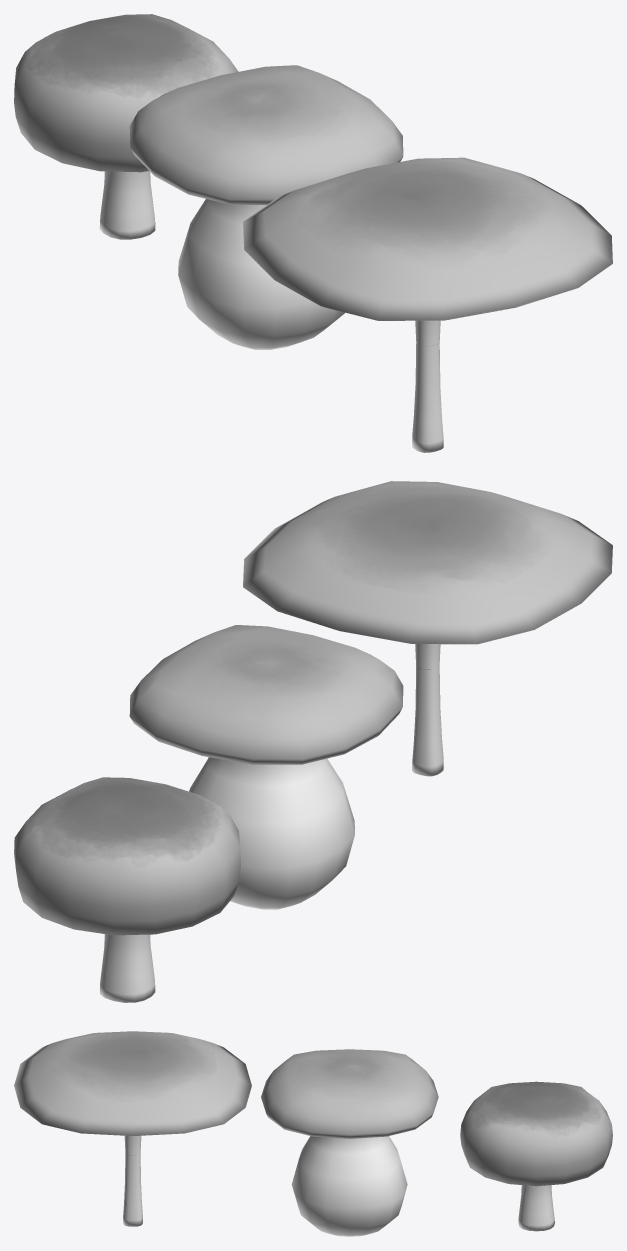
The model's file is 04-MushroonsSmall.fbx.
3 renders of one model, top to bottom at view 1: azimuth 30°, elevation 25°; view 2: azimuth 150°, elevation 25°; view 3: azimuth 270°, elevation 25°, orthographic. The views are drawn at different scales.
Parts seen in each view (by area): view 1: MushroonsSmallOne, MushroonsSmallTwo, MushroonsSmallThree; view 2: MushroonsSmallOne, MushroonsSmallTwo, MushroonsSmallThree; view 3: MushroonsSmallTwo, MushroonsSmallOne, MushroonsSmallThree.
Part boxes in pixels (x1,y1,x2,y2): MushroonsSmallOne: (243,157,612,452); MushroonsSmallTwo: (129,65,403,349); MushroonsSmallThree: (14,14,238,239); MushroonsSmallOne: (243,481,612,776); MushroonsSmallTwo: (129,625,403,909); MushroonsSmallThree: (14,777,240,1002); MushroonsSmallTwo: (261,1049,438,1236); MushroonsSmallOne: (14,1031,251,1226); MushroonsSmallThree: (460,1081,612,1231).
Size of the model in its own units: 151 by 119 by 381.
